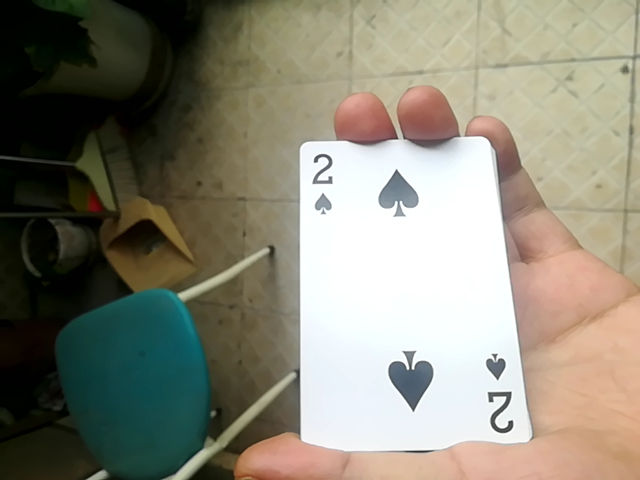ht 2: (302, 128, 536, 462)
